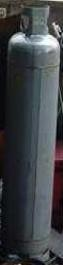cylinder: (0, 1, 63, 265)
